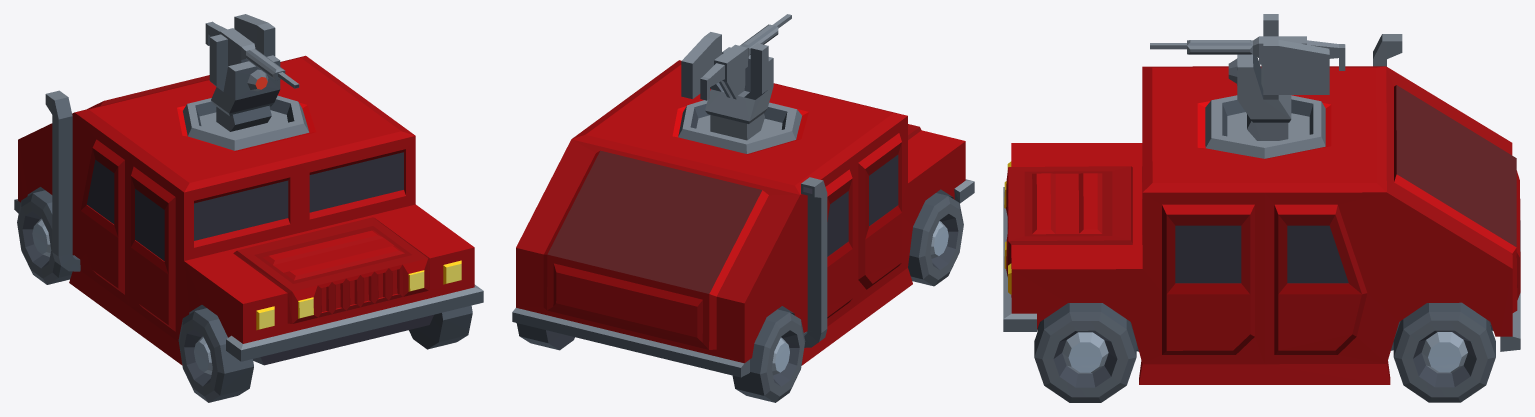
The model's file is Armored_Vehicles_Red.fbx.
3 renders of one model, left to right at view 1: azimuth 30°, elevation 25°; view 2: azimuth 150°, elevation 25°; view 3: azimuth 270°, elevation 25°, orthographic. The views are drawn at different scales.
Parts seen in each view (by area): view 1: Armored_Vehicles_Red, Turret, Tie4, Pipe, Tie6, Tie5; view 2: Armored_Vehicles_Red, Turret, Tie6, Tie4, Pipe, Tie; view 3: Armored_Vehicles_Red, Turret, Tie, Tie5, Pipe.
Part boxes in pixels (x1,y1,x2,y2): Armored_Vehicles_Red: (14,55,483,365); Turret: (205,14,299,131); Tie4: (178,308,253,402); Pipe: (45,90,80,271); Tie6: (17,190,72,284); Tie5: (409,305,472,349); Armored_Vehicles_Red: (512,60,974,377); Turret: (681,14,791,140); Tie6: (732,309,805,402); Tie4: (908,193,963,286); Pipe: (801,177,827,347); Tie: (516,323,574,350); Armored_Vehicles_Red: (1003,66,1520,384); Turret: (1150,14,1345,140); Tie: (1393,302,1495,402); Tie5: (1034,303,1136,402); Pipe: (1373,34,1402,66).
Size of the model in its own units: 163 by 161 by 248.
